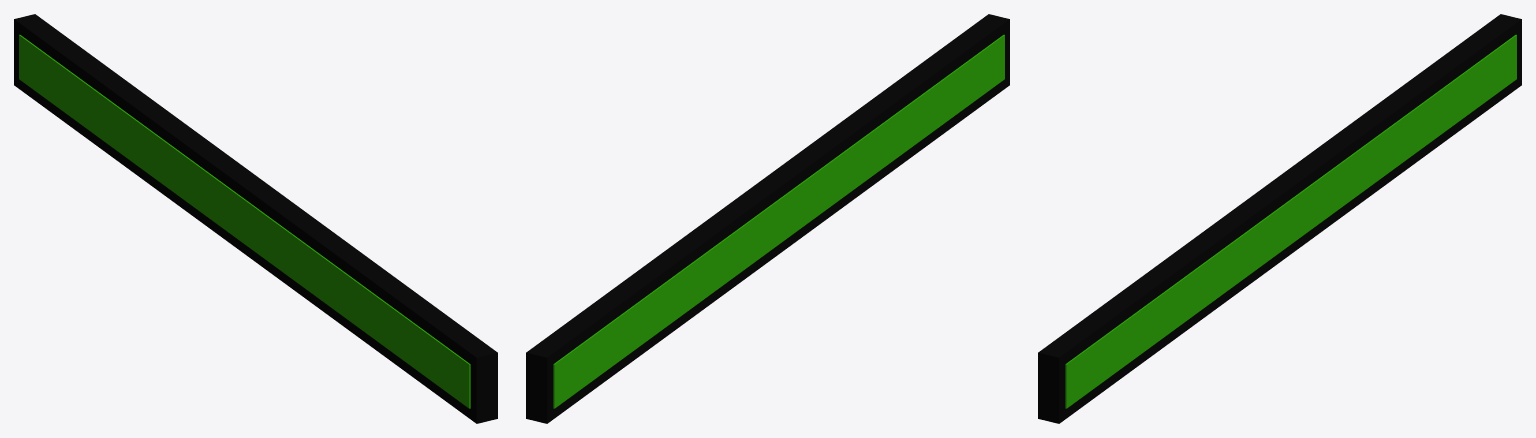
The model's file is hp_bar_enemy.fbx.
3 views of the same model, side by side, from view 1: azimuth 30°, elevation 25°; view 2: azimuth 150°, elevation 25°; view 3: azimuth 330°, elevation 25° (orthographic).
Parts seen in each view (by area): view 1: bar, hp; view 2: bar, hp; view 3: bar, hp.
Boxes of the visible parts, <box> form: bar: <box>14,14,497,423</box>; hp: <box>19,34,470,408</box>; bar: <box>526,14,1009,423</box>; hp: <box>553,34,1004,408</box>; bar: <box>1038,14,1521,423</box>; hp: <box>1065,34,1516,408</box>.
Bounding box in the file's own units: 4.5 × 12 × 152.
